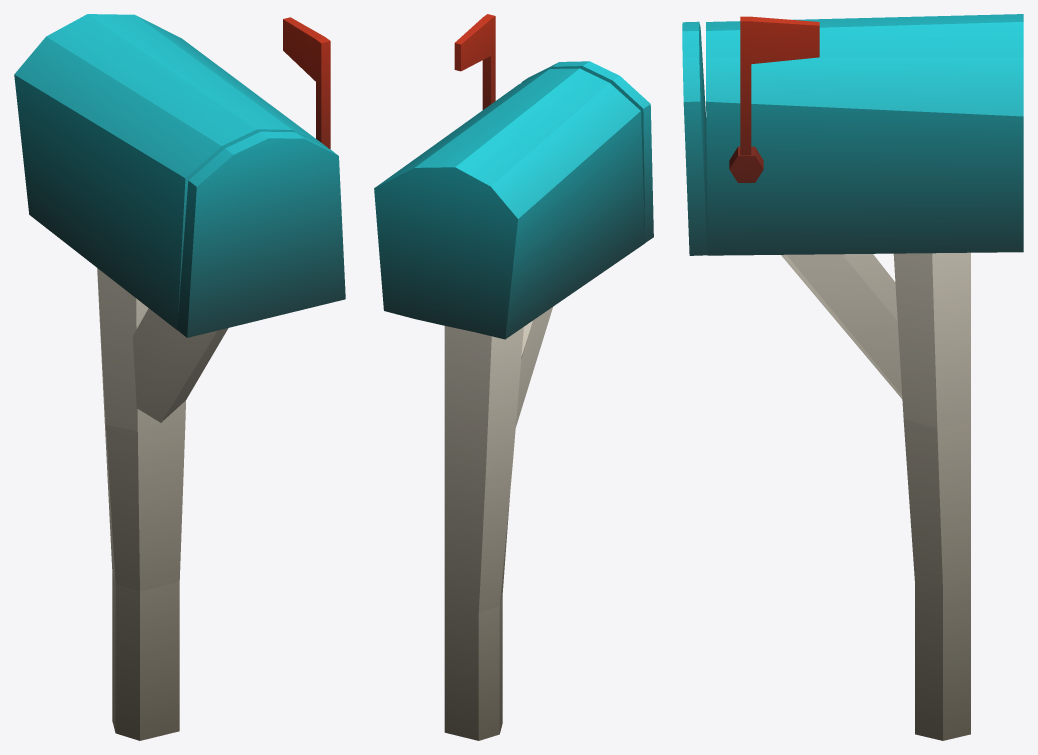
The picture shows the model from 3 angles, left to right: view 1: azimuth 30°, elevation 25°; view 2: azimuth 150°, elevation 25°; view 3: azimuth 270°, elevation 25°; orthographic projection. The views are drawn at different scales.
Parts seen in each view (by area): view 1: 6.001; view 2: 6.001; view 3: 6.001.
Part boxes in pixels (box(x1,y1,x2,y2)): 6.001: box(14, 14, 345, 740); 6.001: box(374, 14, 653, 740); 6.001: box(682, 14, 1023, 740).
Bounding box in the file's own units: 0.7957 × 3.16 × 1.31.
Materials: 1 (1 with a texture image).
